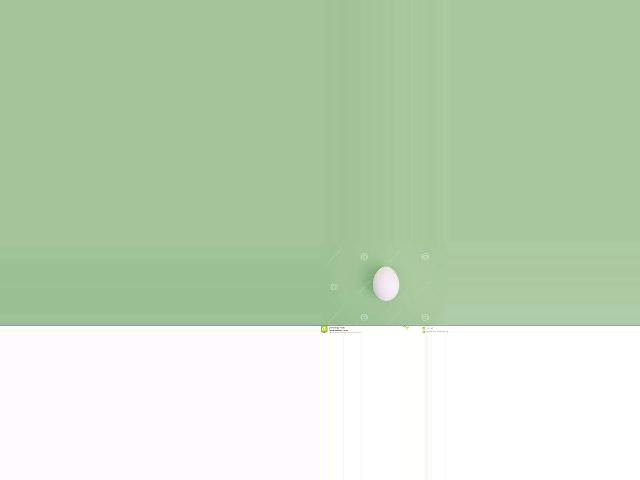egg: (372, 267, 399, 301)
